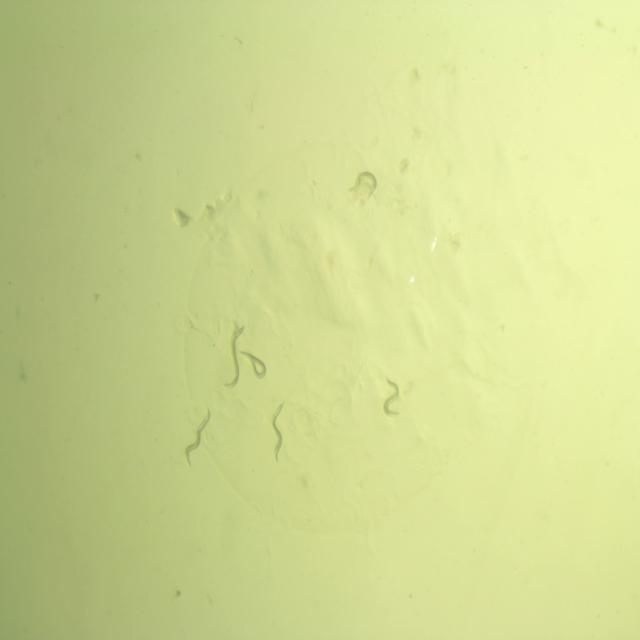worm: (182, 398, 214, 472), (219, 322, 250, 394), (266, 396, 290, 466), (235, 340, 270, 384), (346, 166, 381, 204), (378, 373, 402, 421)
